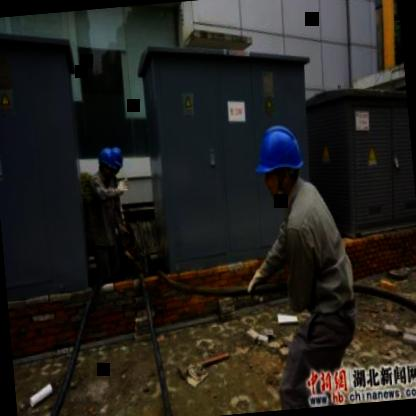helmet: (249, 119, 312, 208), (95, 141, 118, 183), (112, 144, 127, 177)
